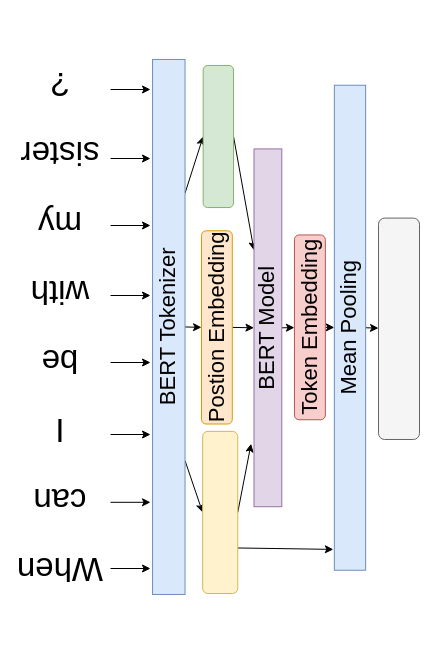
Some shapes in this 437 by 661 pixel diagram are drawn without their labels. Each missing label, with the centre of its shape:
Attention Mask: point (220, 512)
Sentance Embedding: point (399, 328)
Word Tokens: point (218, 136)
